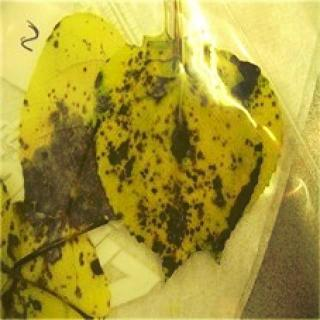leaf spot: (117, 72, 220, 254), (17, 115, 113, 231), (3, 218, 108, 314)
